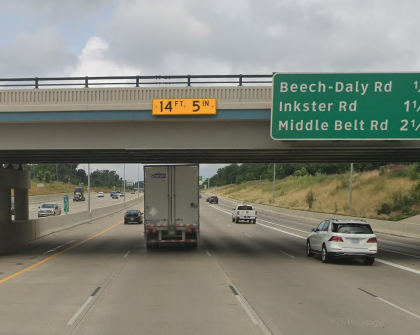1: (155, 99, 164, 113)
4: (163, 99, 173, 114)
5: (190, 98, 201, 114)
overheadsign: (150, 98, 218, 115)
